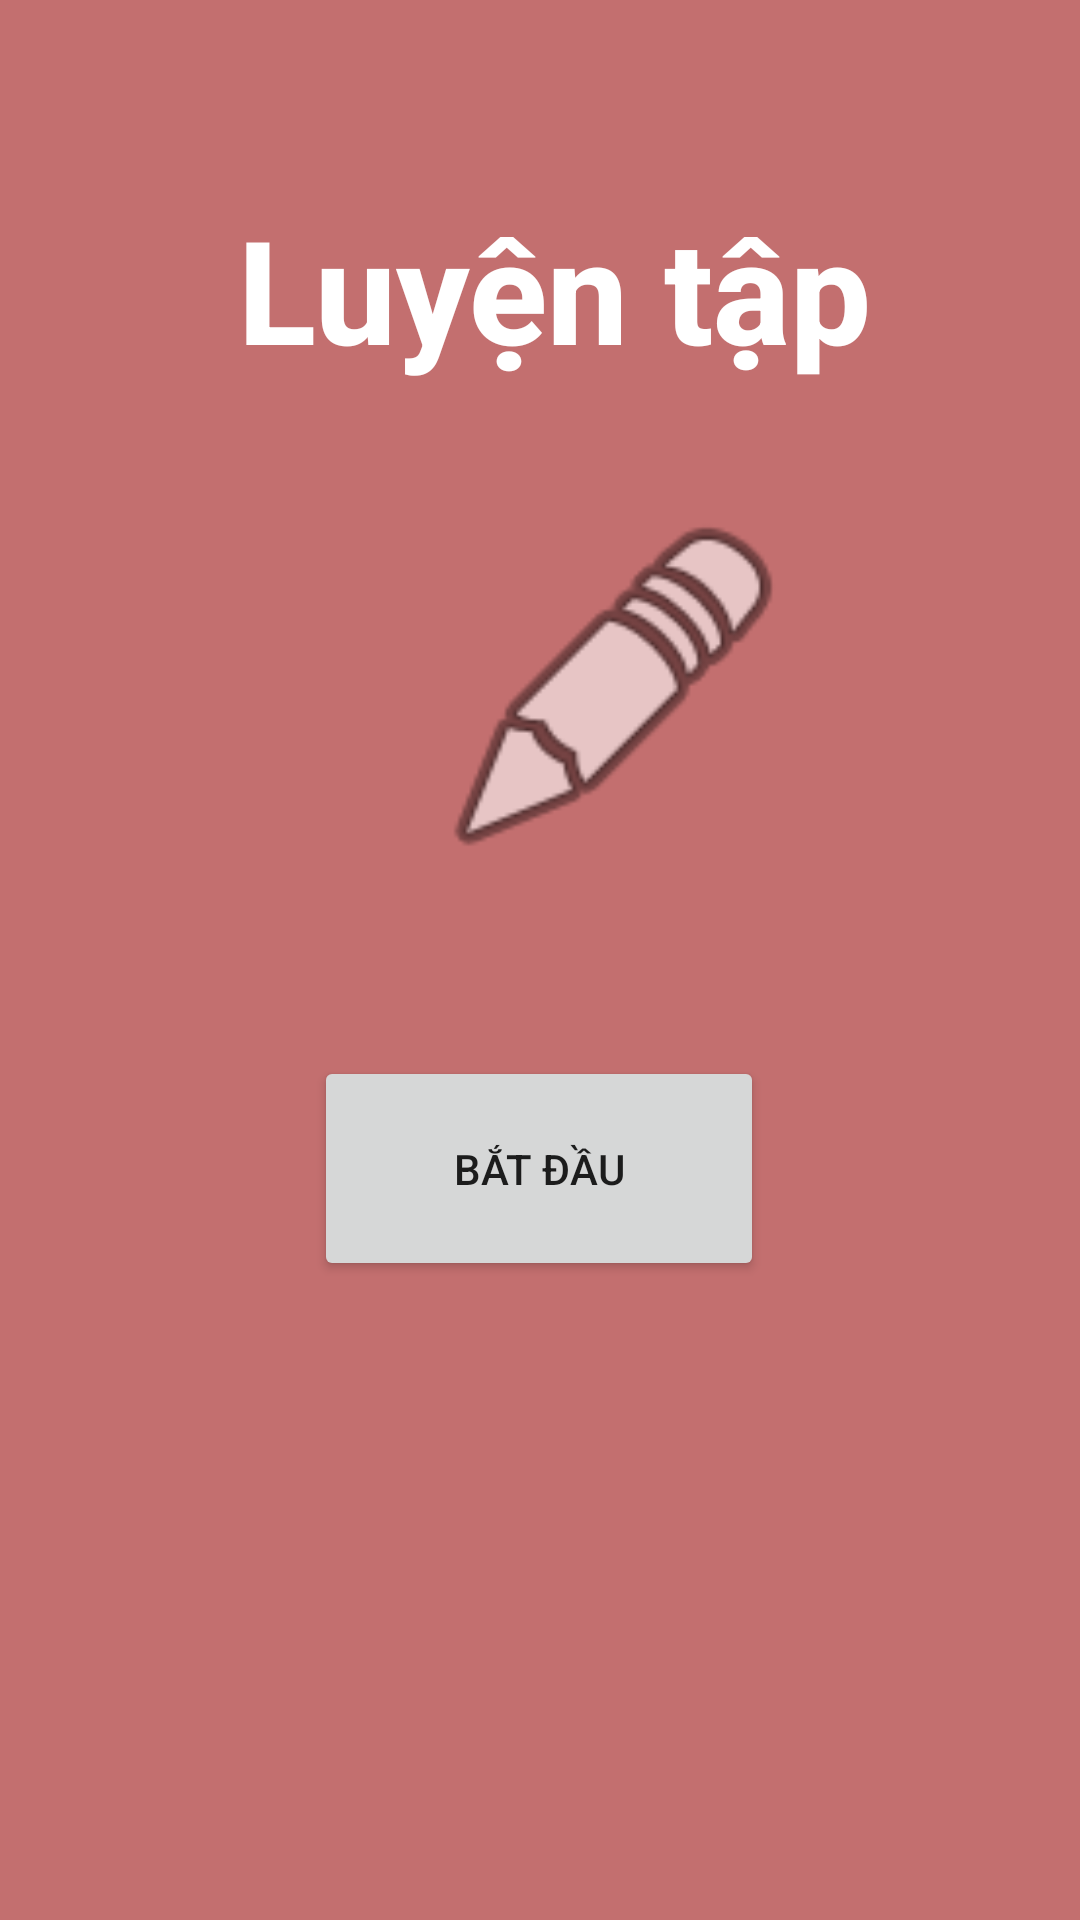

Point at icon controls on the screen. Image size 1080 × 1920, points as (x=x, y=y).
edit: (x=613, y=686)
